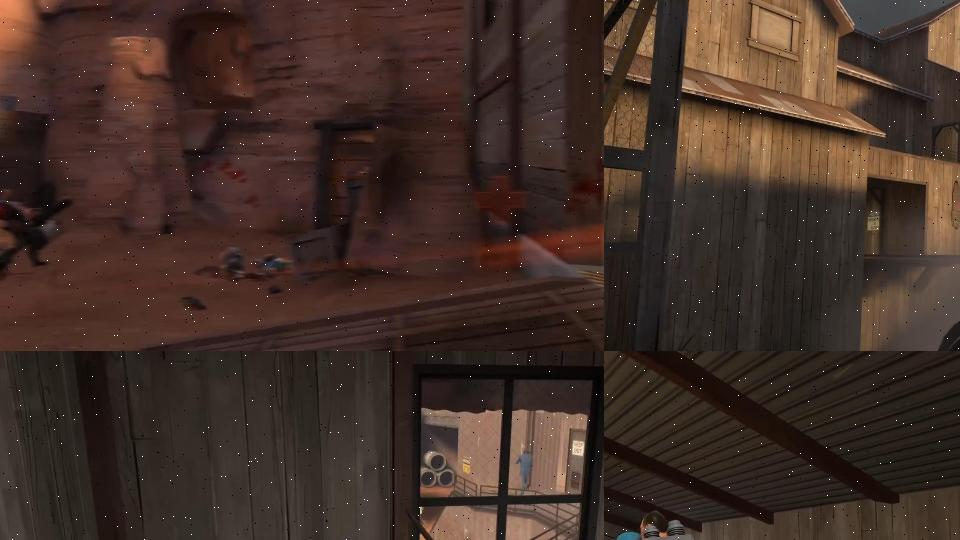Enemy: (0, 188, 74, 268), (515, 450, 534, 496)
